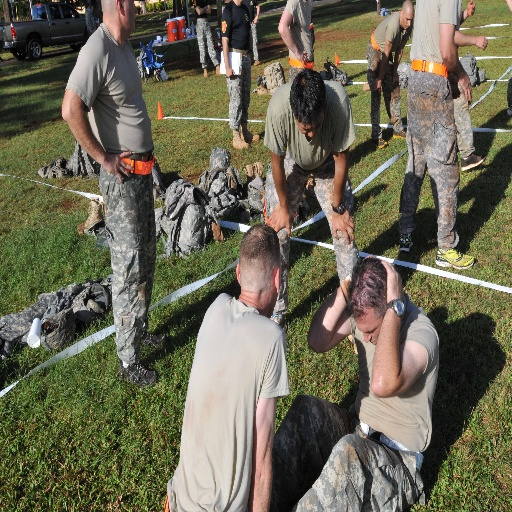hand: (334, 202, 368, 254), (102, 148, 133, 187), (380, 257, 404, 307), (266, 201, 291, 240), (453, 67, 473, 102), (340, 269, 352, 302), (448, 74, 462, 102), (294, 49, 308, 67), (388, 69, 400, 89), (475, 35, 488, 51), (466, 0, 476, 18), (370, 78, 382, 92), (225, 65, 235, 80), (252, 17, 258, 27)
